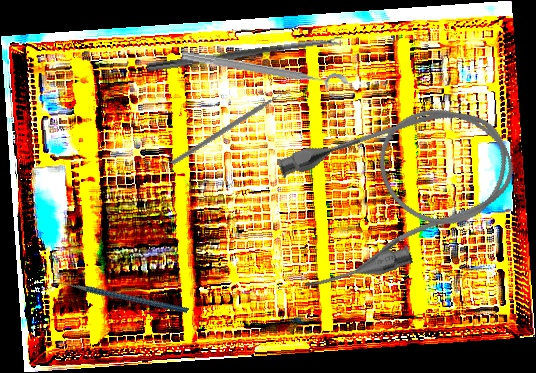Cannula: (261, 83, 533, 301)
Chopper: (170, 59, 297, 200), (47, 241, 190, 357)
Fixation Ring: (179, 46, 349, 102)
Surgical Spoon: (146, 36, 344, 73)
